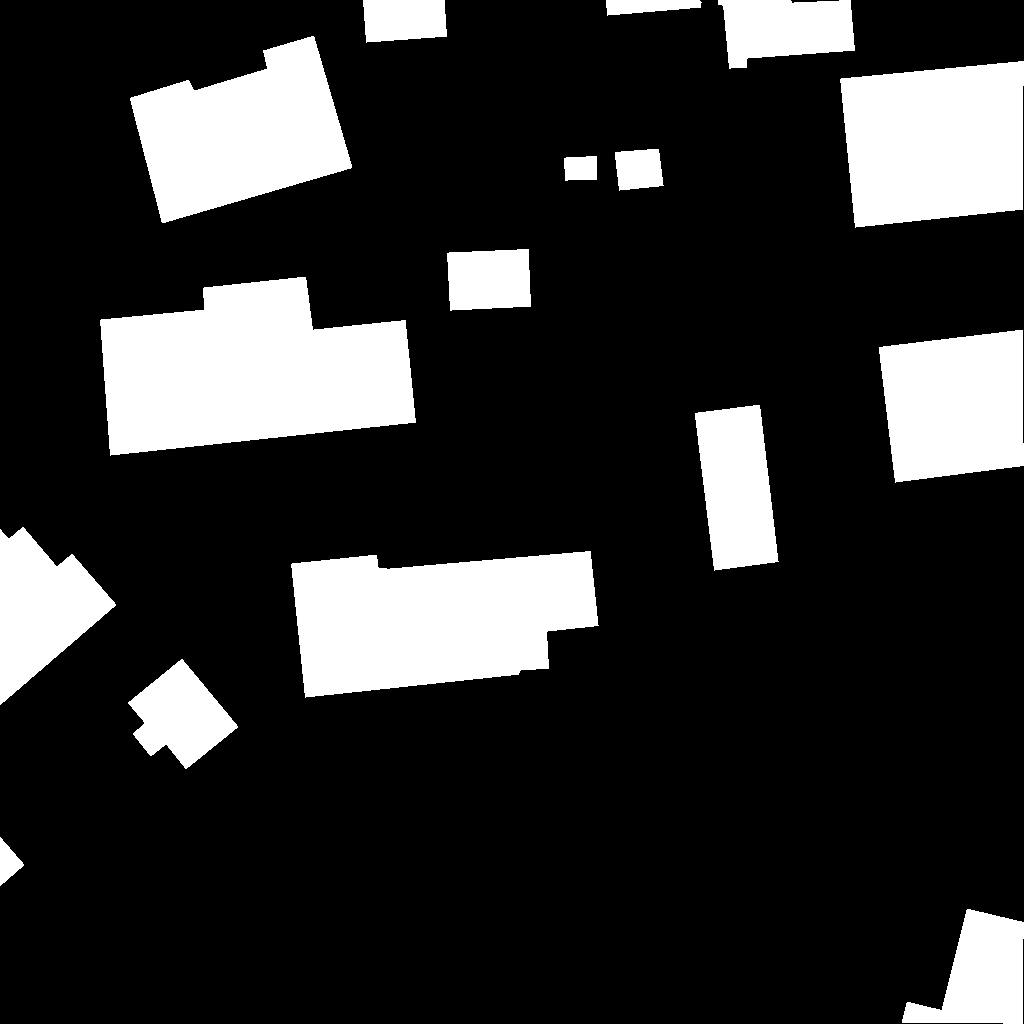building: (100, 277, 417, 456), (291, 551, 599, 698), (130, 36, 353, 224), (840, 61, 1024, 228), (879, 330, 1024, 483), (0, 527, 117, 706), (902, 909, 1024, 1024), (695, 405, 779, 571), (128, 659, 239, 770), (718, 0, 856, 69), (447, 249, 532, 311), (363, 0, 448, 43), (615, 149, 664, 191), (606, 0, 702, 16), (0, 837, 25, 887), (564, 156, 598, 181)
